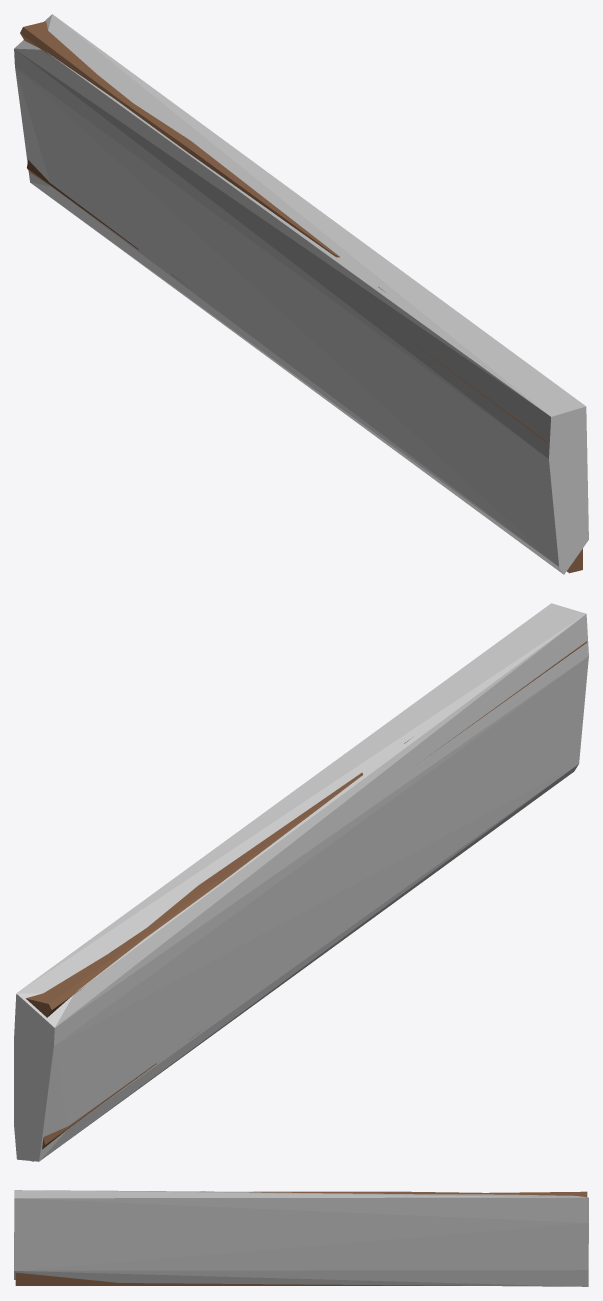
The model's file is SM_Bld_Wall_Trim_08.fbx.
3 renders of one model, top to bottom at view 1: azimuth 30°, elevation 25°; view 2: azimuth 150°, elevation 25°; view 3: azimuth 270°, elevation 25°, orthographic. The views are drawn at different scales.
Visible parts, largest first — view 1: SM_Bld_Wall_Trim_08_ConvexHulls, SM_Bld_Wall_Trim_08; view 2: SM_Bld_Wall_Trim_08_ConvexHulls, SM_Bld_Wall_Trim_08; view 3: SM_Bld_Wall_Trim_08_ConvexHulls, SM_Bld_Wall_Trim_08.
Boxes of the visible parts, bbox=[...] form: SM_Bld_Wall_Trim_08_ConvexHulls: bbox=[14, 14, 588, 574]; SM_Bld_Wall_Trim_08: bbox=[20, 21, 582, 573]; SM_Bld_Wall_Trim_08_ConvexHulls: bbox=[14, 603, 588, 1161]; SM_Bld_Wall_Trim_08: bbox=[26, 641, 586, 1161]; SM_Bld_Wall_Trim_08_ConvexHulls: bbox=[14, 1190, 588, 1286]; SM_Bld_Wall_Trim_08: bbox=[15, 1191, 587, 1285].
Size of the model in its own units: 11.09 by 251 by 43.14.
Materials: 2 (1 with a texture image).
